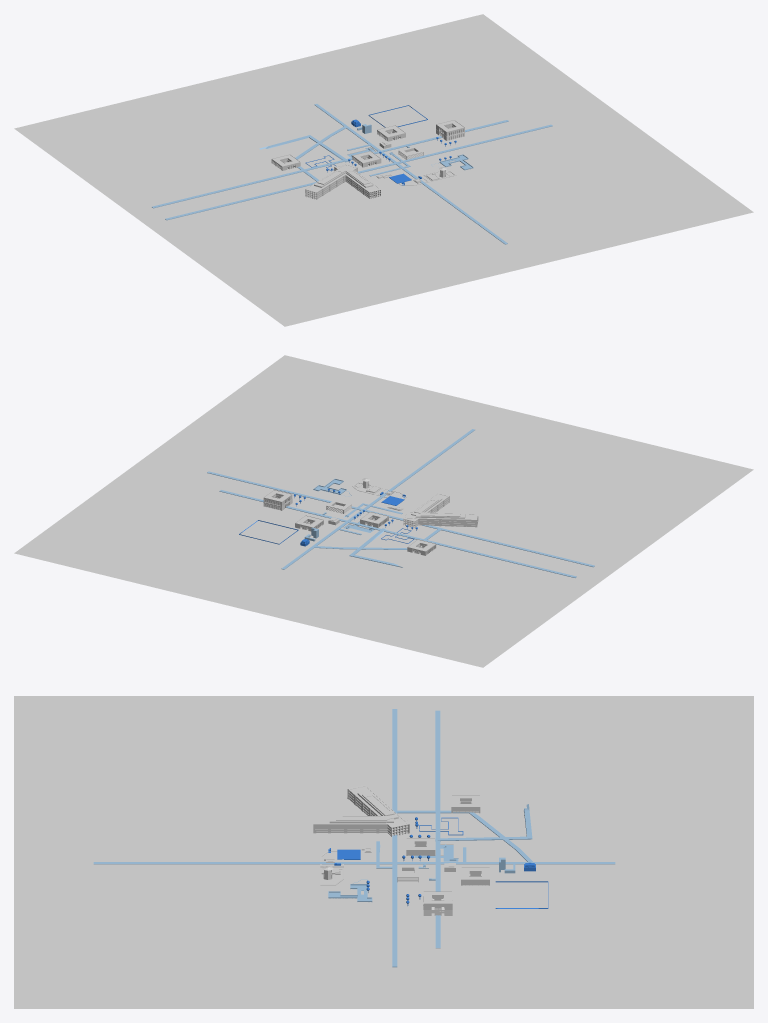
The model's file is color_cu_v2.glb.
3 renders of one model, top to bottom at view 1: azimuth 30°, elevation 25°; view 2: azimuth 150°, elevation 25°; view 3: azimuth 270°, elevation 25°, orthographic. The views are drawn at different scales.
Visible parts, largest first — view 1: ground, street, building2Instance; view 2: ground, street, building2Instance; view 3: ground, street, building2Instance, fancyBuildings, EdificioCU.004, EdificioCU.001, EdificioCU.003, EdificioCU.002.
Boxes of the visible parts, x1,y1,x2,y2 form: ground: (14,14,753,326); street: (152,104,552,244); building2Instance: (305,164,380,199); ground: (14,355,753,667); street: (207,429,594,577); building2Instance: (403,493,478,527); ground: (14,696,753,1008); street: (93,709,615,967); building2Instance: (313,785,409,836); fancyBuildings: (320,843,371,885); EdificioCU.004: (423,891,452,915); EdificioCU.001: (406,837,435,855); EdificioCU.003: (461,867,489,885); EdificioCU.002: (451,795,480,813).
Size of the model in its own units: 4030 by 114 by 4030.
